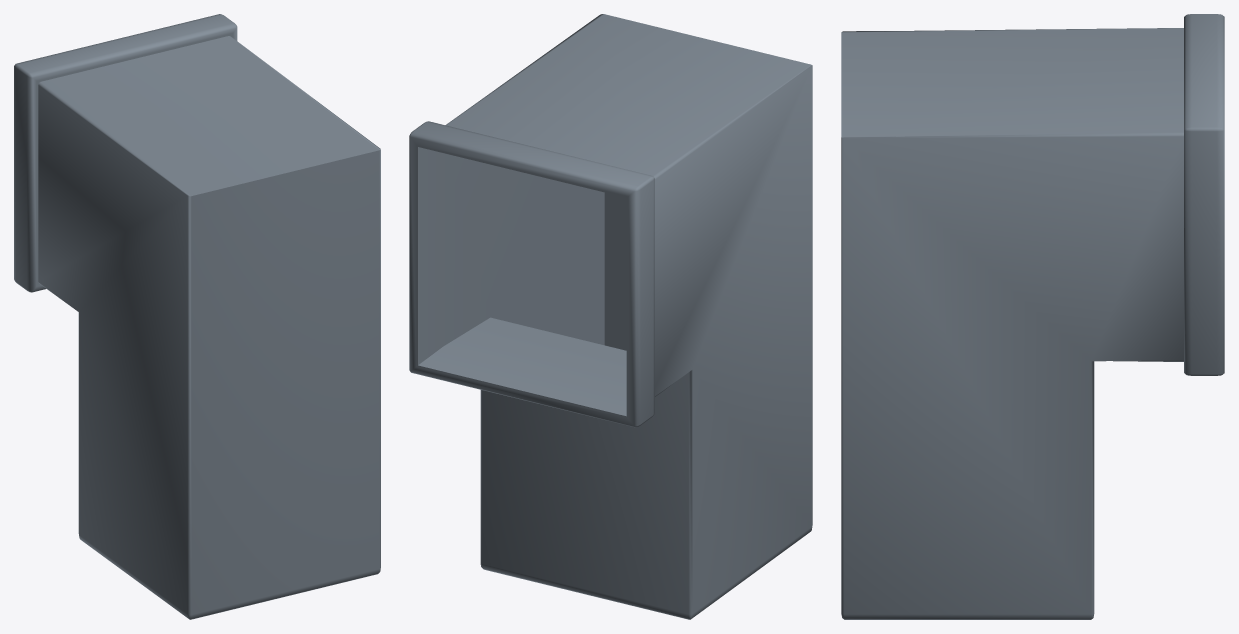
File: Hood-Chimney-2.fbx
3 renders of one model, left to right at view 1: azimuth 30°, elevation 25°; view 2: azimuth 150°, elevation 25°; view 3: azimuth 270°, elevation 25°, orthographic. The views are drawn at different scales.
Parts seen in each view (by area): view 1: Hood-Chimney-2; view 2: Hood-Chimney-2; view 3: Hood-Chimney-2.
Part boxes in pixels (box(x1,y1,x2,y2)): Hood-Chimney-2: box(14, 14, 380, 619); Hood-Chimney-2: box(409, 14, 812, 619); Hood-Chimney-2: box(841, 14, 1224, 619).
Size of the model in its own units: 0.2499 by 0.5 by 0.3497.
